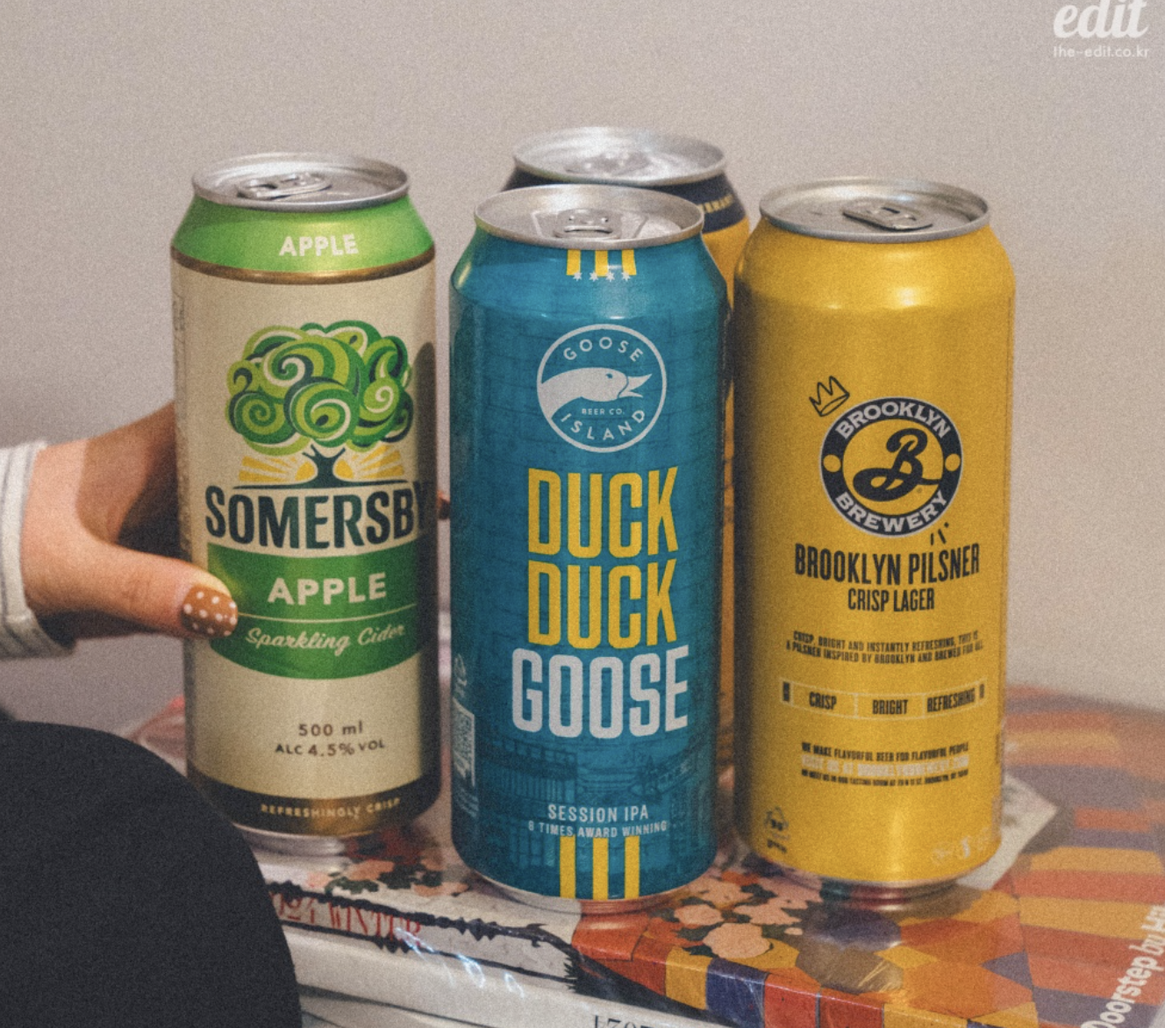beer-can: (733, 175, 1016, 900), (449, 183, 728, 913), (169, 149, 443, 853), (499, 123, 748, 771)
